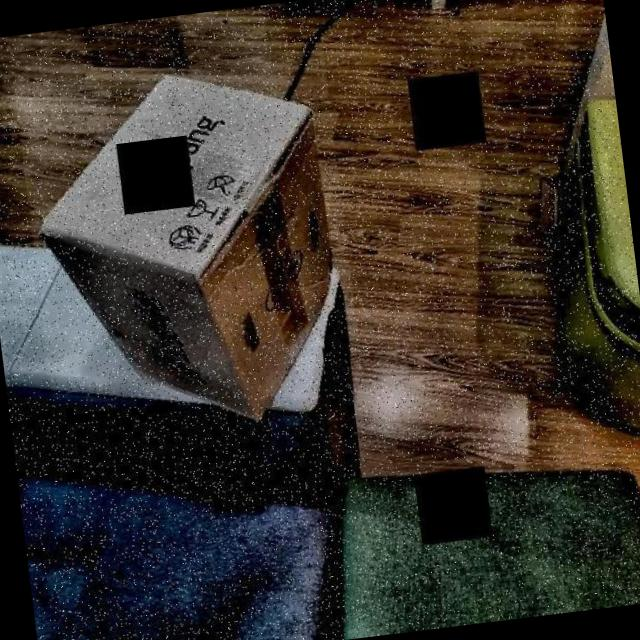box: (14, 48, 368, 454)
